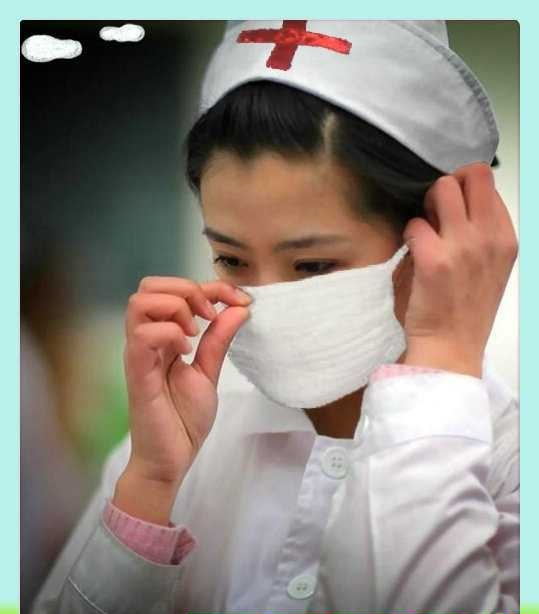face_mask: (199, 146, 407, 411)
